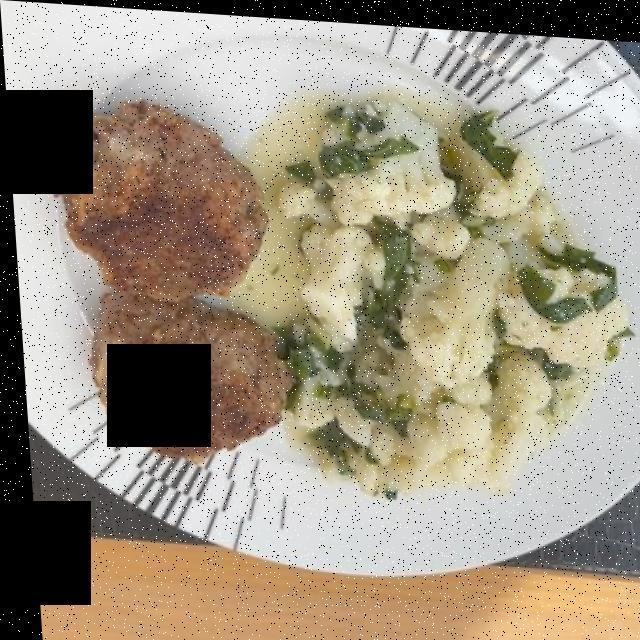beef: (51, 95, 282, 455)
butter: (259, 109, 325, 318)
cheese: (289, 102, 612, 402)
